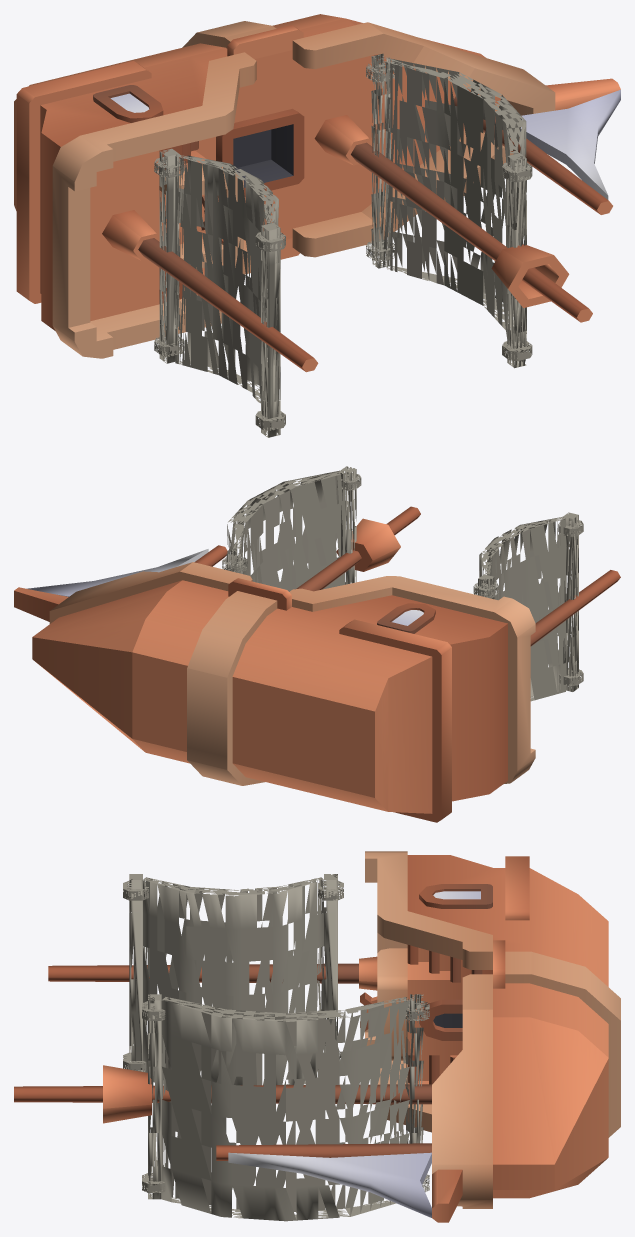
The model's file is SM_Wreck_Medium.obj.
3 renders of one model, top to bottom at view 1: azimuth 30°, elevation 25°; view 2: azimuth 150°, elevation 25°; view 3: azimuth 270°, elevation 25°, orthographic. The views are drawn at different scales.
Parts seen in each view (by area): view 1: SM_Wreck_Medium; view 2: SM_Wreck_Medium; view 3: SM_Wreck_Medium.
Boxes of the visible parts, x1,y1,x2,y2 form: SM_Wreck_Medium: (14,14,620,437); SM_Wreck_Medium: (14,466,620,822); SM_Wreck_Medium: (14,851,620,1222).
Bounding box in the file's own units: 3500 × 1300 × 3290.
2 materials, 1 textured.
